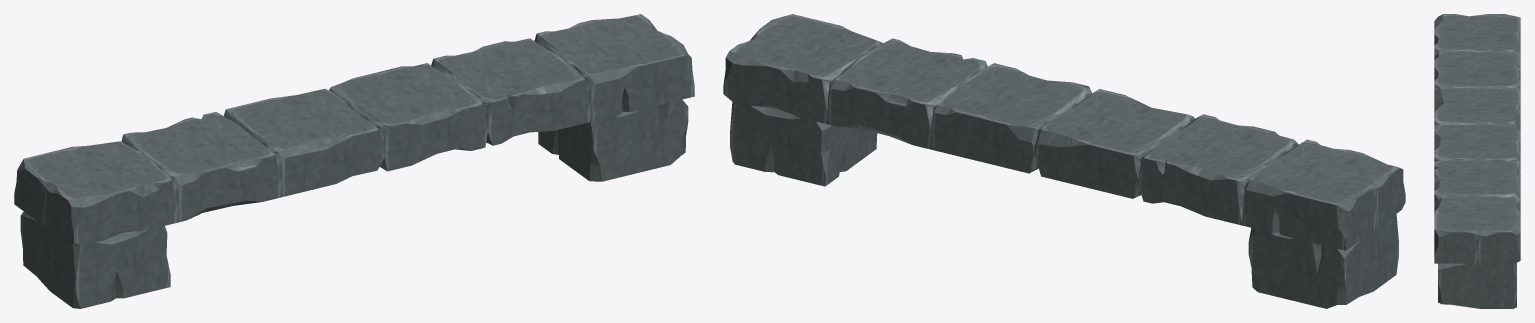
Rendered from Stone Bridge W6_HD.fbx.
3 views of the same model, side by side, from view 1: azimuth 30°, elevation 25°; view 2: azimuth 150°, elevation 25°; view 3: azimuth 270°, elevation 25° (orthographic). The views are drawn at different scales.
Visible parts, largest first — view 1: StoneBridge_W6; view 2: StoneBridge_W6; view 3: StoneBridge_W6.
Boxes of the visible parts, box(x1,y1,x2,y2) form: StoneBridge_W6: box(14, 14, 694, 308); StoneBridge_W6: box(723, 14, 1405, 308); StoneBridge_W6: box(1434, 14, 1520, 308).
Size of the model in its own units: 6 by 1 by 1.
